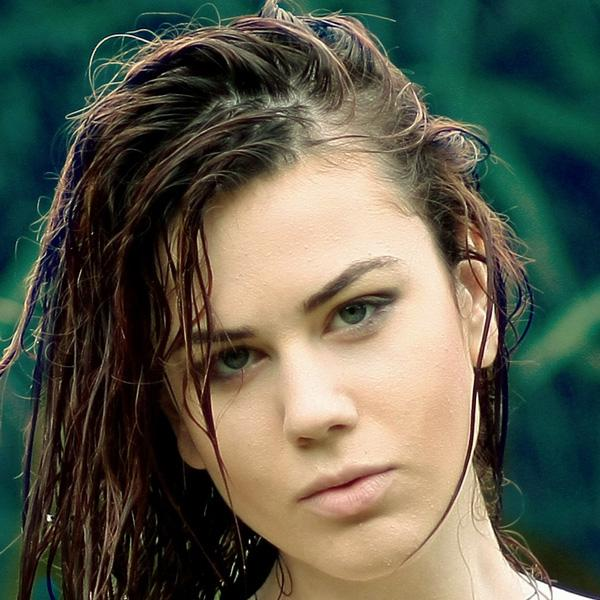Eyes: (178, 335, 276, 396), (311, 282, 401, 345)
